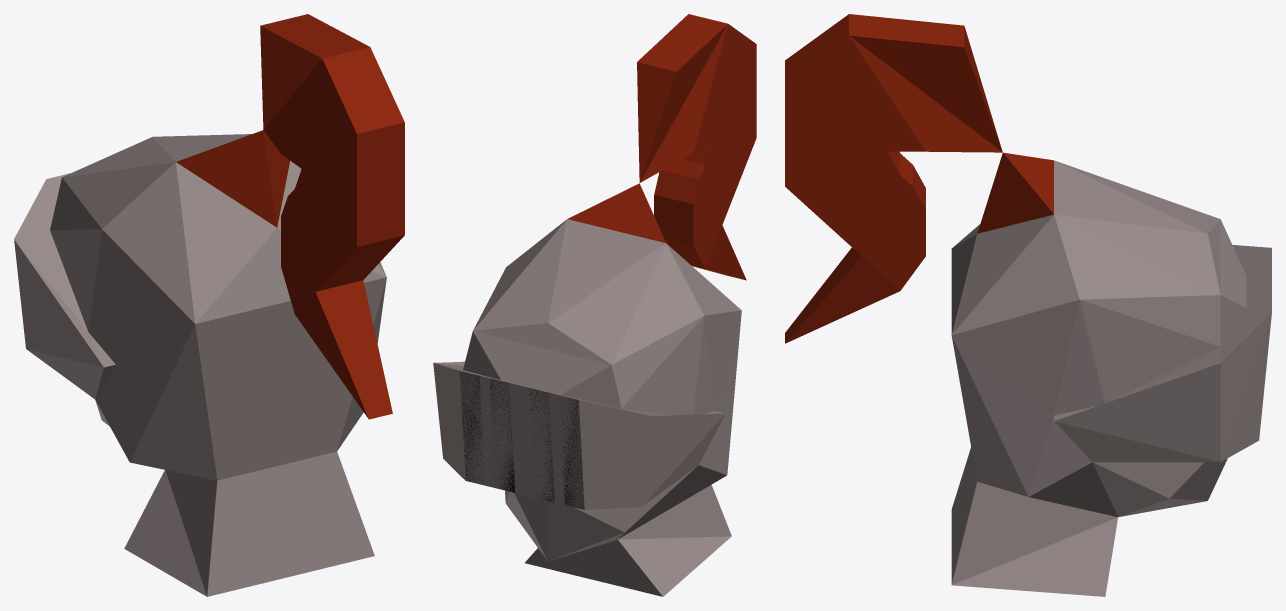
The model's file is npc_world_white_knight_0.obj.
3 renders of one model, left to right at view 1: azimuth 30°, elevation 25°; view 2: azimuth 150°, elevation 25°; view 3: azimuth 270°, elevation 25°, orthographic. The views are drawn at different scales.
Size of the model in its own units: 0.1719 by 0.3594 by 0.2969.
